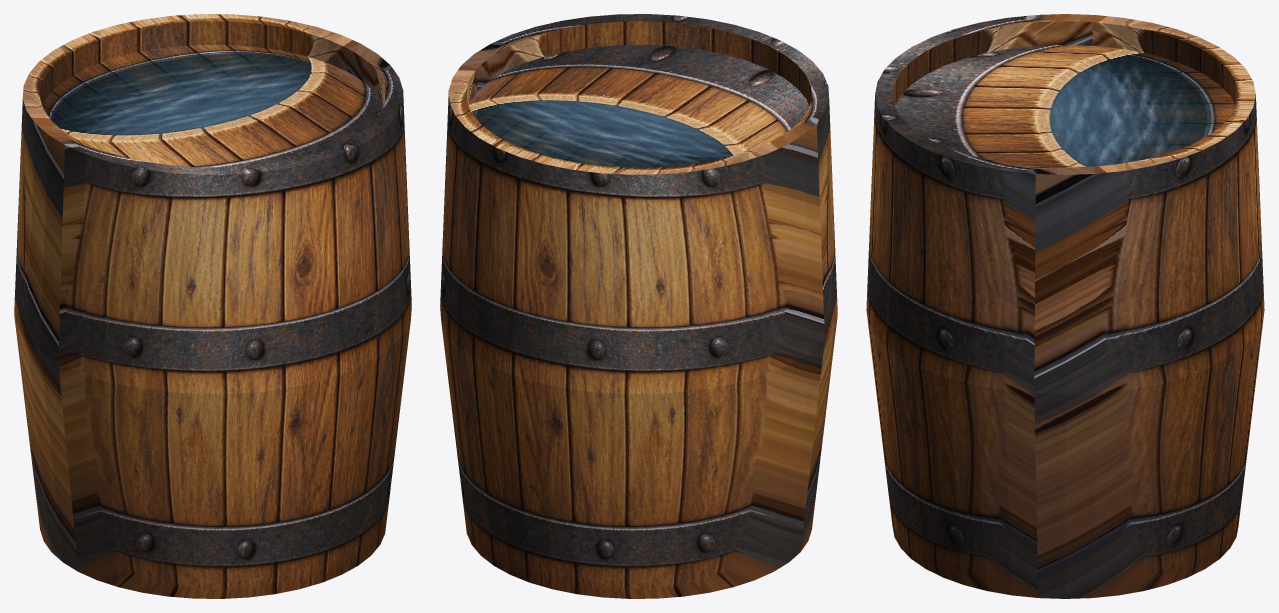
The model's file is v3-kitchen-water-barrel.glb.
The picture shows the model from 3 angles, left to right: view 1: azimuth 30°, elevation 25°; view 2: azimuth 150°, elevation 25°; view 3: azimuth 270°, elevation 25°; orthographic projection.
Parts seen in each view (by area): view 1: v3-kitchen-water-barrel; view 2: v3-kitchen-water-barrel; view 3: v3-kitchen-water-barrel.
Part boxes in pixels (x1,y1,x2,y2): v3-kitchen-water-barrel: [14, 14, 411, 598]; v3-kitchen-water-barrel: [440, 14, 837, 598]; v3-kitchen-water-barrel: [866, 14, 1264, 598].
Size of the model in its own units: 0.92 by 1.1 by 0.92.
Materials: 1 (1 with a texture image).
